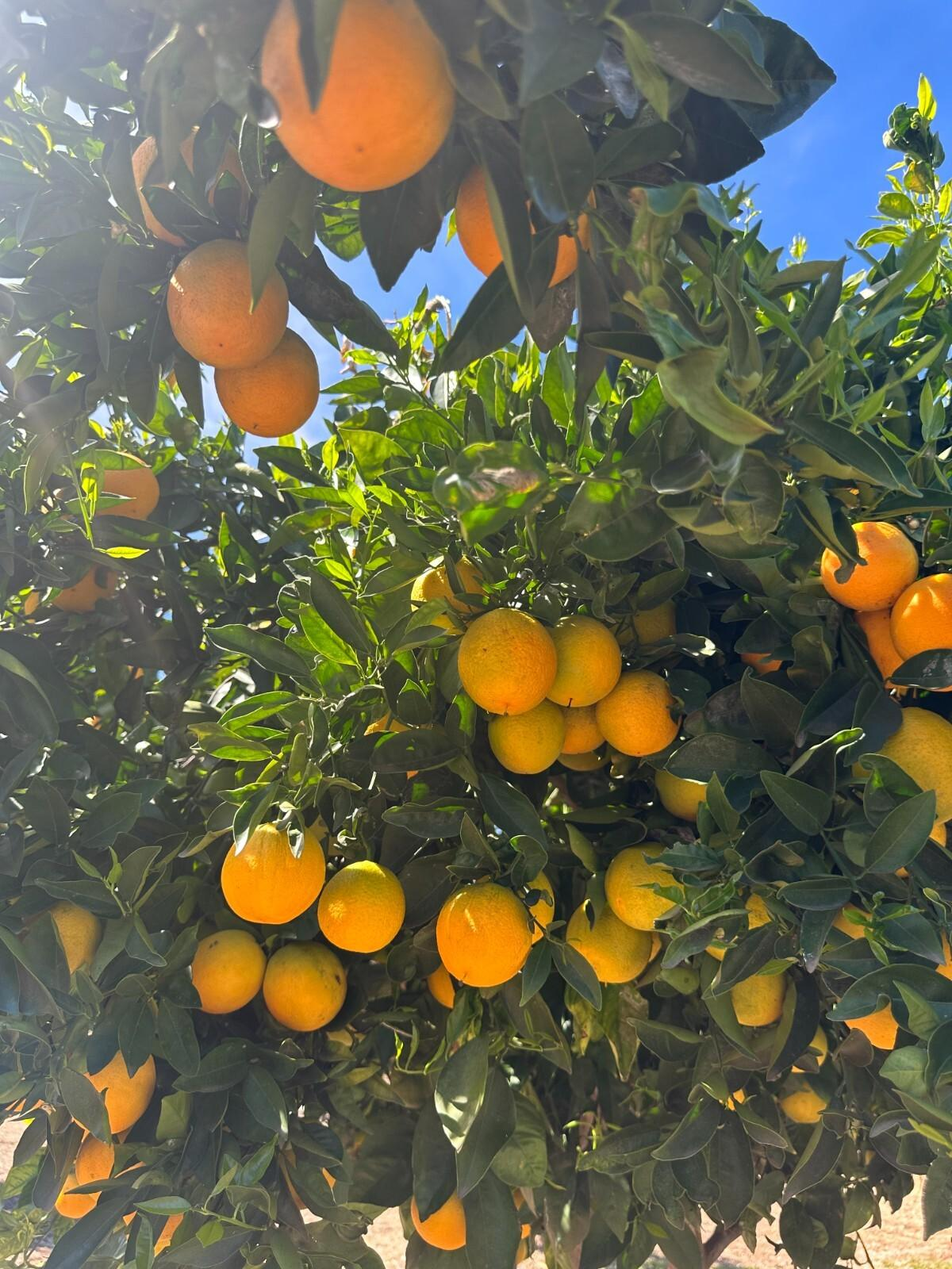orange: (258, 0, 456, 195), (457, 155, 596, 289), (167, 238, 288, 371), (133, 127, 251, 247), (852, 706, 951, 825), (215, 329, 319, 437), (221, 821, 326, 924), (458, 608, 555, 714), (436, 882, 531, 987), (820, 521, 920, 612), (66, 1040, 157, 1135), (317, 860, 405, 953), (603, 841, 691, 930), (566, 895, 653, 984), (263, 942, 346, 1031), (595, 670, 679, 757), (547, 615, 620, 707), (477, 865, 556, 946), (411, 555, 490, 633), (192, 930, 265, 1013), (489, 700, 565, 773), (697, 887, 770, 960), (892, 573, 951, 659), (85, 452, 159, 520), (595, 591, 678, 645), (76, 1128, 133, 1203), (362, 709, 422, 779), (410, 1183, 468, 1250), (50, 901, 101, 973), (855, 608, 903, 684), (731, 963, 788, 1027), (276, 1147, 334, 1209), (836, 994, 900, 1049), (49, 563, 119, 613), (123, 1205, 185, 1256), (654, 769, 706, 822), (894, 824, 947, 875), (55, 1172, 100, 1218), (561, 705, 604, 753), (781, 1079, 826, 1122), (557, 740, 617, 771), (791, 1022, 827, 1072), (832, 902, 875, 940), (512, 1186, 536, 1242), (427, 964, 455, 1009), (740, 654, 783, 675), (935, 927, 951, 981), (6, 1096, 46, 1111), (650, 929, 662, 961), (515, 1237, 527, 1268)
